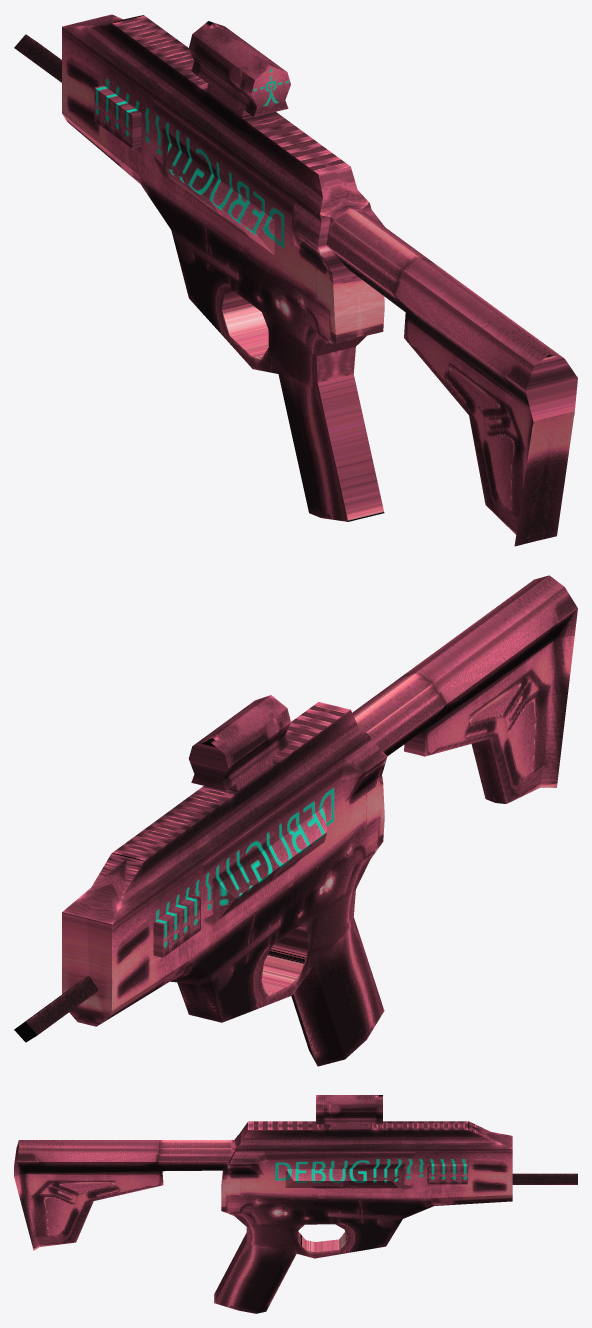
File: degubby N.glb
3 renders of one model, top to bottom at view 1: azimuth 30°, elevation 25°; view 2: azimuth 150°, elevation 25°; view 3: azimuth 270°, elevation 25°, orthographic. The views are drawn at different scales.
Visible parts, largest first — view 1: gun parent; view 2: gun parent; view 3: gun parent.
Part boxes in pixels (x1,y1,x2,y2): gun parent: (14,14,577,546); gun parent: (14,575,577,1066); gun parent: (14,1095,577,1313).
Size of the model in its own units: 0.0865 by 0.4761 by 1.12.
1 material, 1 textured.
